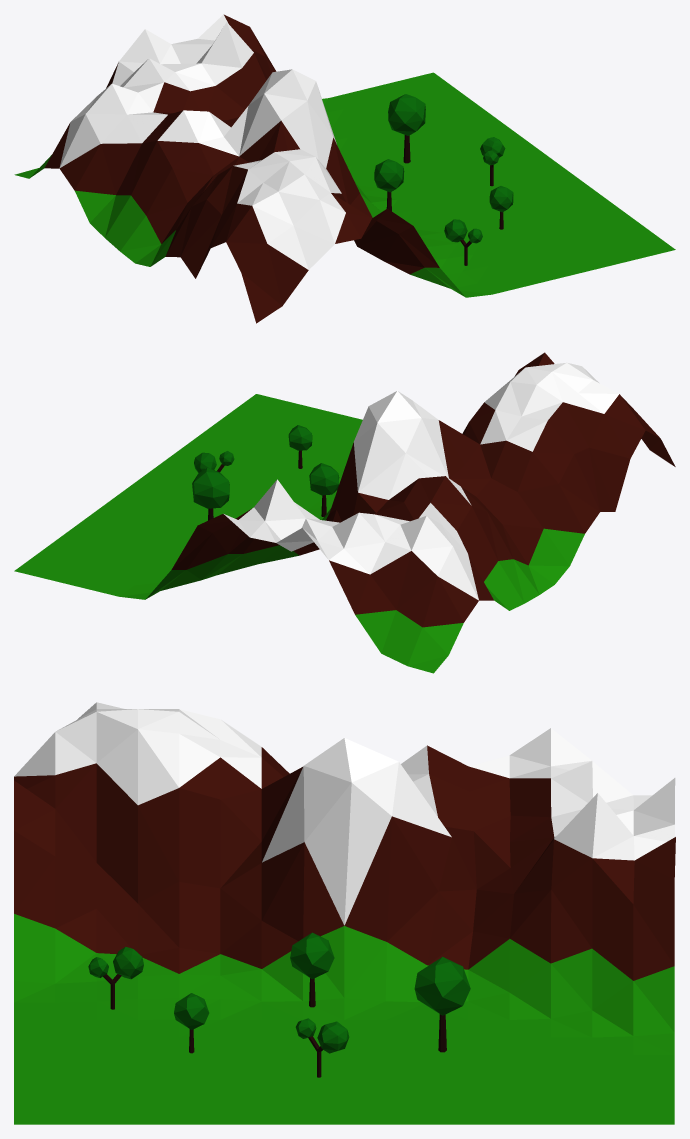
Rendered from Background&Trees.dae.
3 renders of one model, top to bottom at view 1: azimuth 30°, elevation 25°; view 2: azimuth 150°, elevation 25°; view 3: azimuth 270°, elevation 25°, orthographic. The views are drawn at different scales.
Visible parts, largest first — view 1: Plane, Cylinder, Cylinder_002, Cylinder_001, Cylinder_003, Cylinder_004; view 2: Plane, Cylinder, Cylinder_002, Cylinder_004, Cylinder_003; view 3: Plane, Cylinder, Cylinder_002, Cylinder_003, Cylinder_001, Cylinder_004.
Boxes of the visible parts, left/top/right/bottom form: Plane: left=14, top=14, right=675, bottom=323; Cylinder: left=388, top=94, right=425, bottom=163; Cylinder_002: left=374, top=159, right=404, bottom=211; Cylinder_001: left=444, top=219, right=482, bottom=265; Cylinder_003: left=480, top=137, right=505, bottom=186; Cylinder_004: left=489, top=186, right=513, bottom=229; Plane: left=14, top=352, right=675, bottom=673; Cylinder: left=192, top=467, right=229, bottom=520; Cylinder_002: left=309, top=463, right=339, bottom=516; Cylinder_004: left=288, top=425, right=312, bottom=468; Cylinder_003: left=194, top=451, right=234, bottom=472; Plane: left=14, top=702, right=675, bottom=1124; Cylinder: left=414, top=956, right=470, bottom=1052; Cylinder_002: left=290, top=932, right=334, bottom=1007; Cylinder_003: left=295, top=1018, right=349, bottom=1077; Cylinder_001: left=88, top=947, right=143, bottom=1009; Cylinder_004: left=174, top=993, right=209, bottom=1053.
Bounding box in the file's own units: 20 × 7.1 × 20.04.
